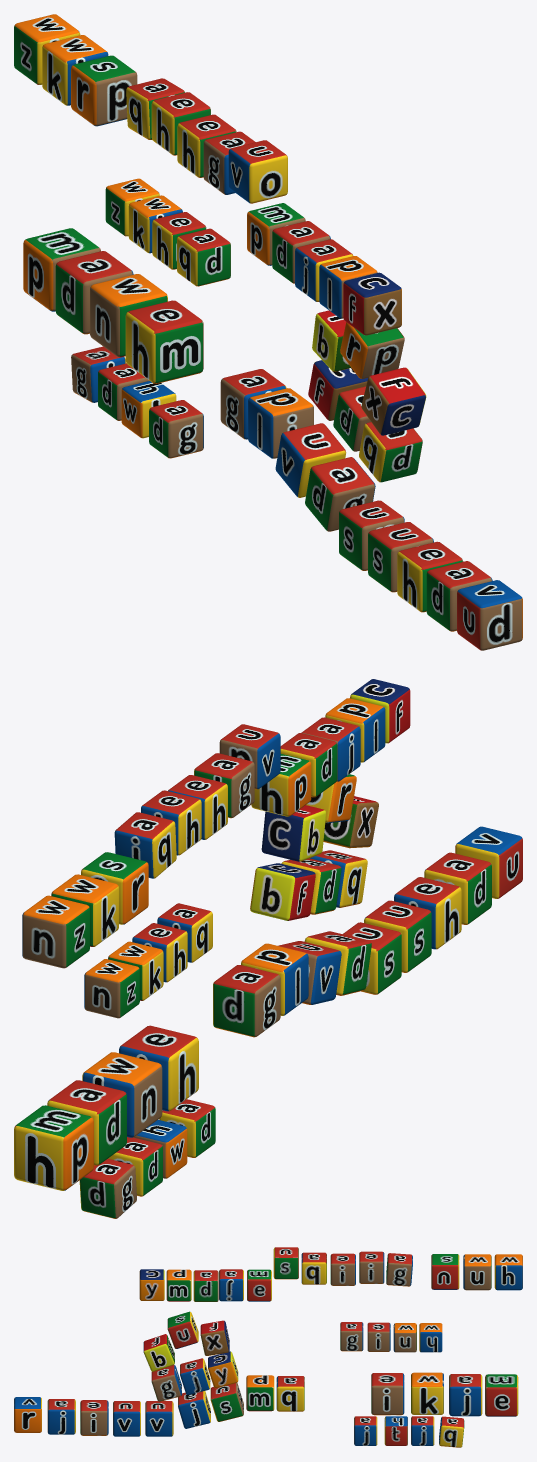
Rendered from letters6.glb.
3 views of the same model, one above another, from view 1: azimuth 30°, elevation 25°; view 2: azimuth 150°, elevation 25°; view 3: azimuth 270°, elevation 25° (orthographic). The views are drawn at different scales.
Visible parts, largest first — view 1: make4, dissapear9, who3, make3, dissapear4, make2, you3, make, needs5, magic5, dissapear2, dissapear3 (+28 smaller); view 2: make, who, dissapear, make3, make4, make2, can, you, needs, dissapear9, when, dissapear8 (+28 smaller); view 3: make, make4, make2, make3, who2, who, dissapear2, dissapear3, dissapear7, who3, dissapear5, dissapear (+28 smaller).
Boxes of the visible parts, left/top/right/bottom form: make4: left=125, top=300, right=203, bottom=383; dissapear9: left=457, top=580, right=522, bottom=650; who3: left=71, top=55, right=137, bottom=126; make3: left=90, top=274, right=167, bottom=357; dissapear4: left=305, top=457, right=375, bottom=531; make2: left=55, top=251, right=133, bottom=334; you3: left=361, top=367, right=426, bottom=435; make: left=23, top=228, right=100, bottom=311; needs5: left=228, top=140, right=287, bottom=203; magic5: left=343, top=272, right=401, bottom=335; dissapear2: left=248, top=388, right=313, bottom=458; dissapear3: left=275, top=423, right=346, bottom=497; make: left=14, top=1105, right=93, bottom=1190; who: left=22, top=895, right=89, bottom=968; dissapear: left=213, top=965, right=280, bottom=1037; make3: left=82, top=1052, right=162, bottom=1137; make4: left=119, top=1025, right=198, bottom=1111; make2: left=47, top=1080, right=126, bottom=1165; can: left=250, top=863, right=315, bottom=920; you: left=261, top=805, right=326, bottom=861; needs: left=114, top=812, right=176, bottom=878; dissapear9: left=455, top=826, right=522, bottom=898; when: left=84, top=959, right=139, bottom=1018; dissapear8: left=424, top=852, right=491, bottom=924; make: left=485, top=1374, right=518, bottom=1416; make4: left=371, top=1373, right=404, bottom=1415; make2: left=449, top=1374, right=482, bottom=1416; make3: left=411, top=1372, right=443, bottom=1414; who2: left=463, top=1254, right=491, bottom=1290; who: left=494, top=1254, right=522, bottom=1290; dissapear2: left=246, top=1375, right=274, bottom=1411; dissapear3: left=210, top=1383, right=243, bottom=1421; dissapear7: left=80, top=1400, right=108, bottom=1435; who3: left=431, top=1254, right=459, bottom=1289; dissapear5: left=145, top=1401, right=173, bottom=1436; dissapear: left=276, top=1376, right=304, bottom=1411.
Bounding box in the file's own units: 0.1003 × 0.4308 × 1.02.
5 materials, 5 textured.
